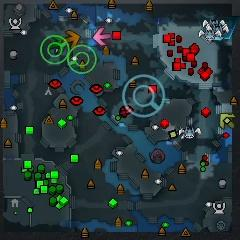Other: (122, 74, 165, 117), (67, 44, 97, 74), (41, 34, 70, 65)
x1: (93, 27, 111, 45)
x2: (219, 112, 234, 129)
x3: (214, 36, 224, 43)
x4: (50, 36, 63, 55)
x5: (63, 31, 80, 48)
